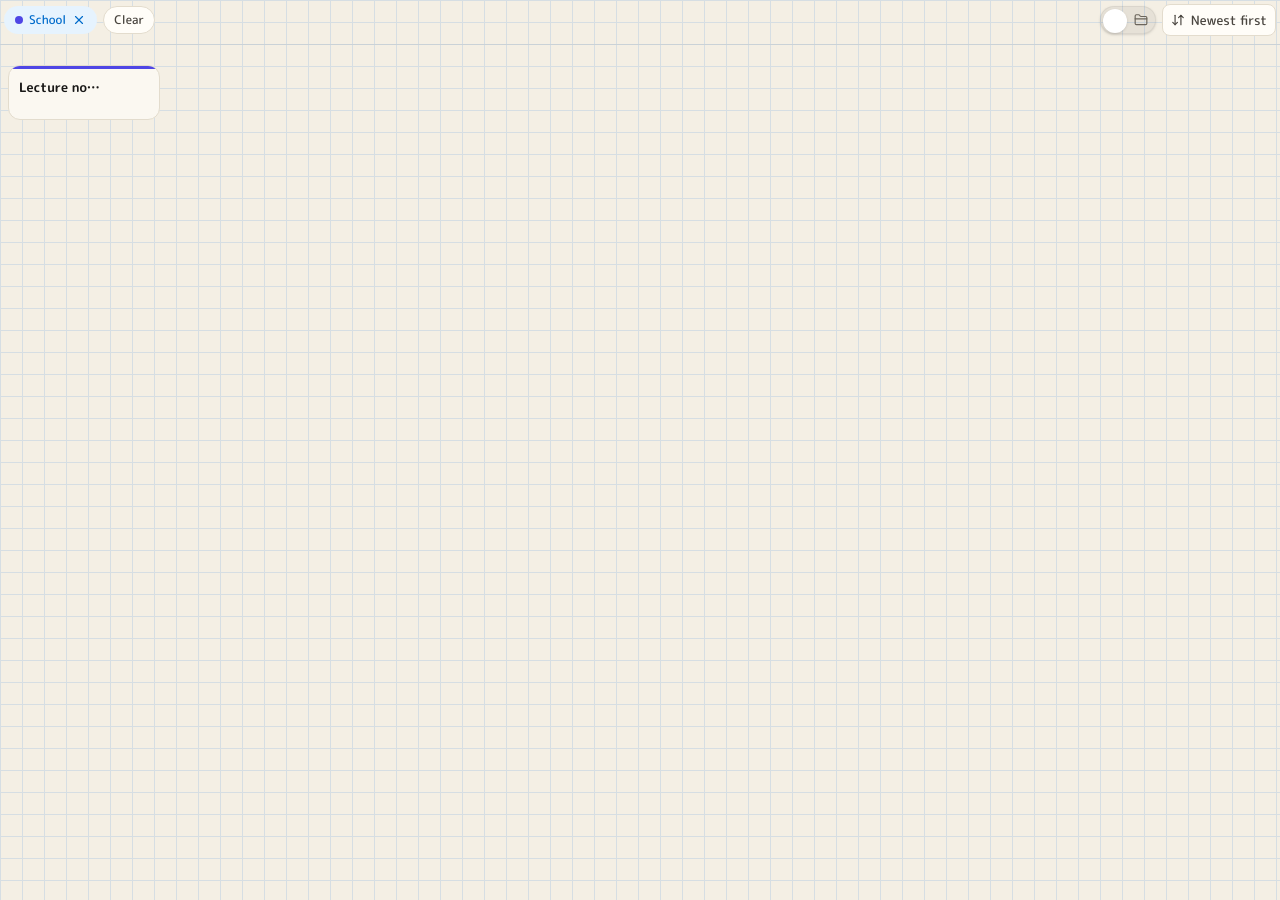
Test: NotesPanel tag filter indicator › shows the selected tags as removable chips, and removing one widens the notes
Click the button "School" at (51, 20), box 4,6 -> 97,34
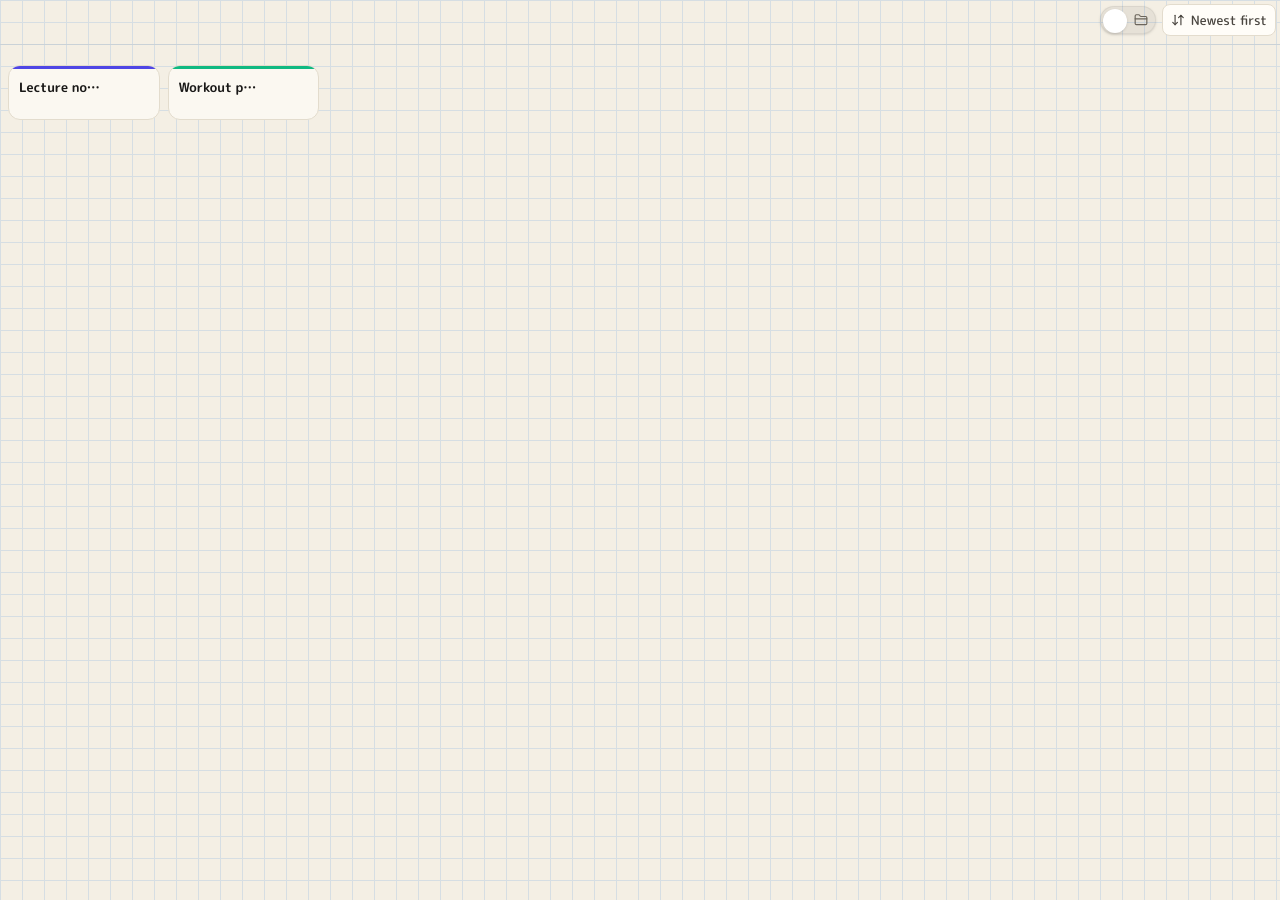
Now the text "Workout plan" is shown, box 178,79 -> 260,97
